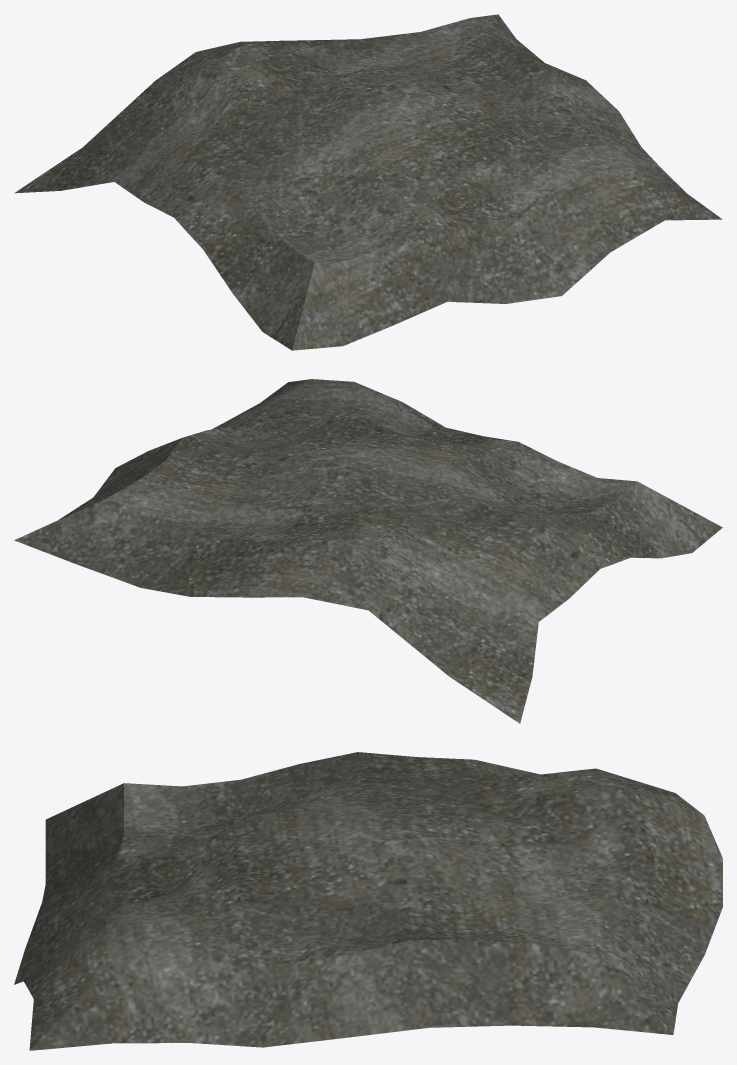
The model's file is rockPlate2.fbx.
The picture shows the model from 3 angles, top to bottom: view 1: azimuth 30°, elevation 25°; view 2: azimuth 150°, elevation 25°; view 3: azimuth 270°, elevation 25°; orthographic projection. The views are drawn at different scales.
Parts seen in each view (by area): view 1: Plane.003; view 2: Plane.003; view 3: Plane.003.
Boxes of the visible parts, x1,y1,x2,y2 form: Plane.003: [14, 14, 722, 350]; Plane.003: [14, 379, 722, 723]; Plane.003: [14, 752, 722, 1050].
Size of the model in its own units: 806 by 181 by 772.
